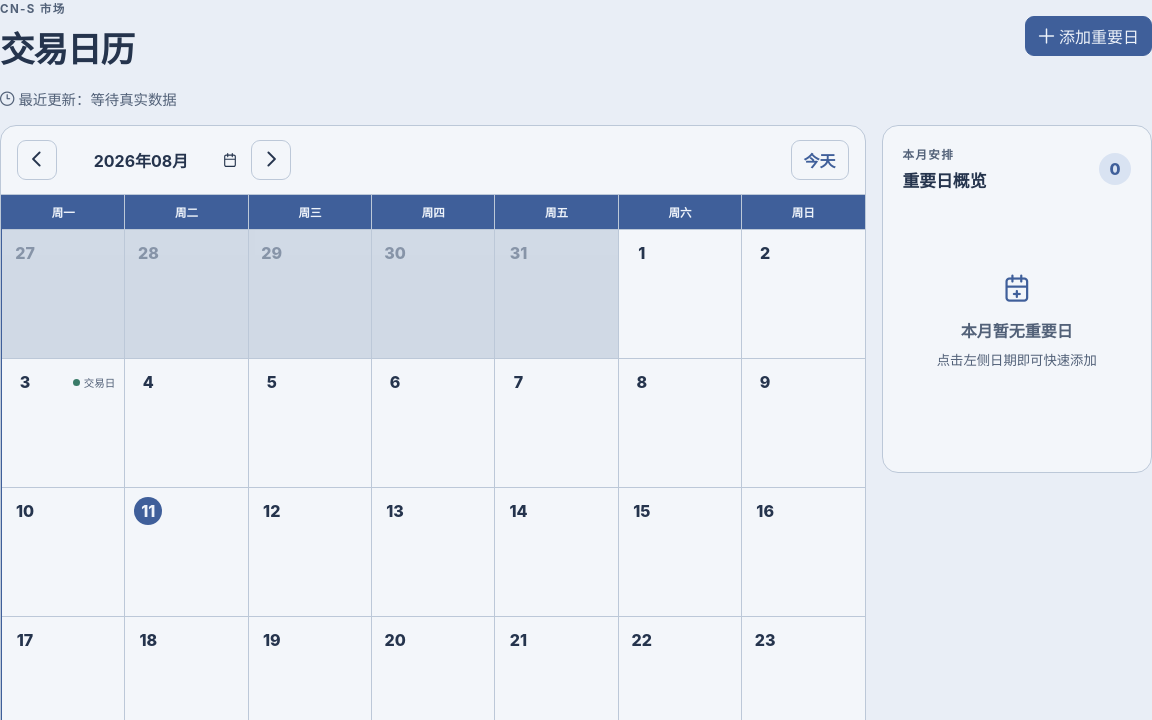
Test: calendar workspace › opens the important-date dialog with the clicked calendar date
The image size is (1152, 720).
Click the element showing "3 交易日" at x=63, y=423, box [2,359,124,487]
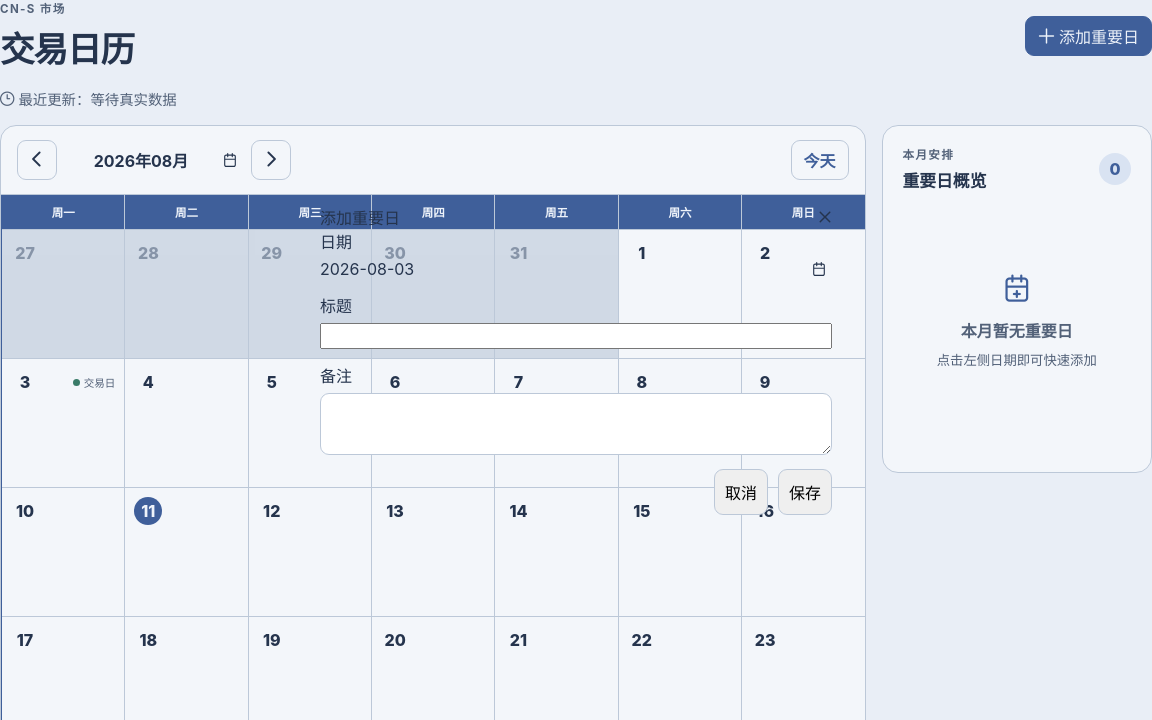
Expected: the dropdown with id "important-date-date" holds "2026-08-03", [320,259,806,279]
